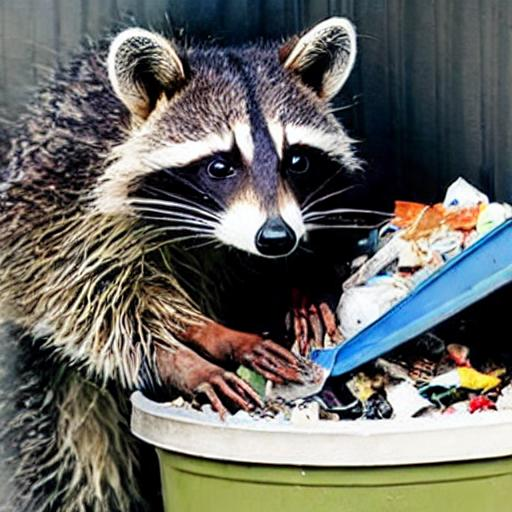raccoon: (0, 9, 382, 353)
